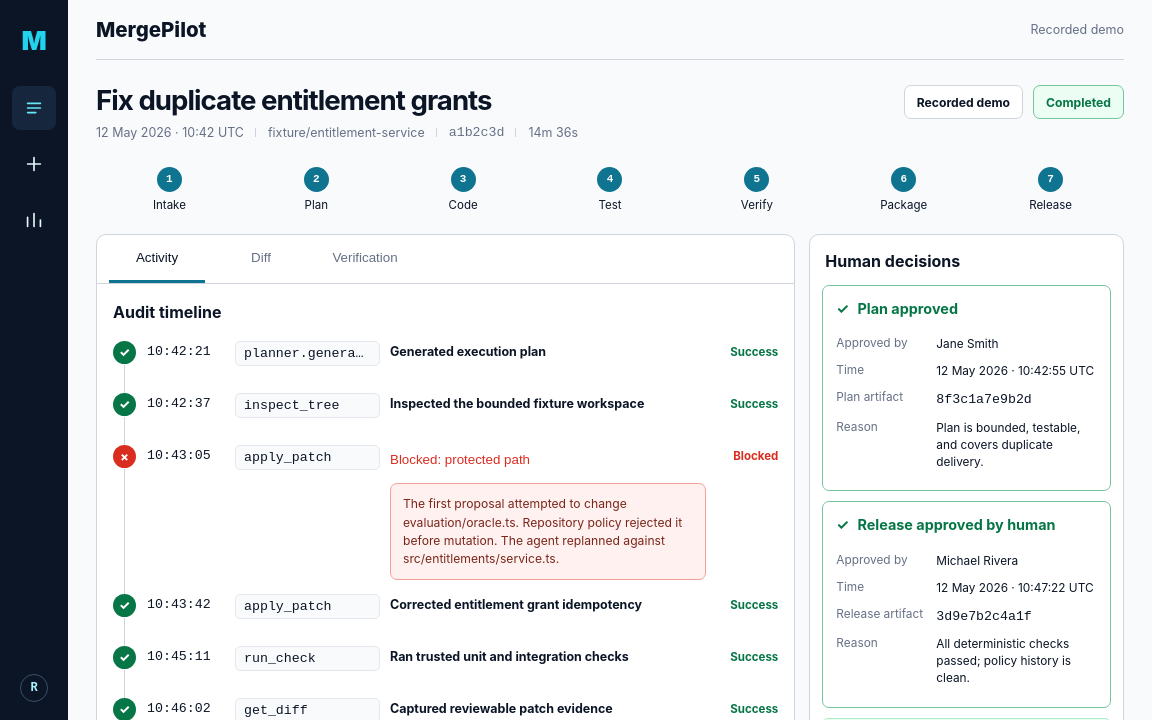
Test: recruiter evidence journey › shows the blocked action, corrected evidence and human decision
Check: the heading "Fix duplicate entitlement grants" is shown, box [96, 83, 492, 117]
Check: the button "Blocked: protected path" is shown, box [390, 445, 530, 473]
What coordinates should you click on to do the following:
click the tab "Verification"
I would click on:
 (365, 259)
Its box is [317, 235, 413, 283].
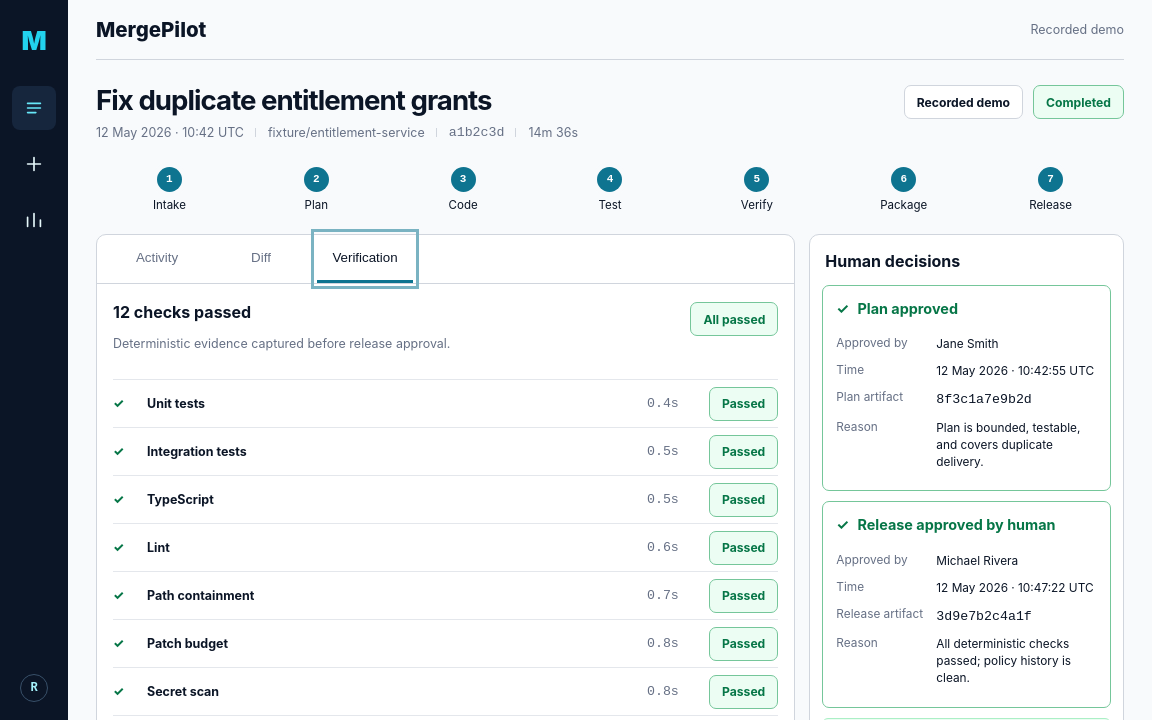
Check: the heading "✓ Release approved by human" is shown, box [836, 516, 1056, 533]
Check: the heading "12 checks passed" is shown, box [113, 302, 251, 322]
